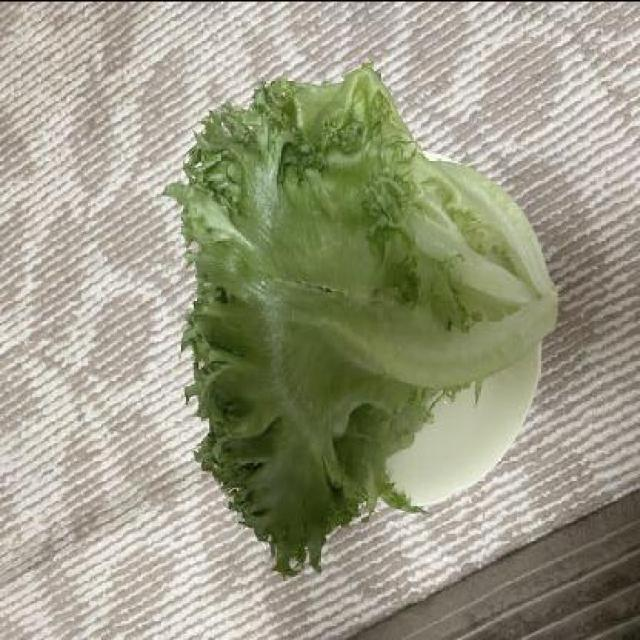Lettuce: (168, 61, 552, 580)
